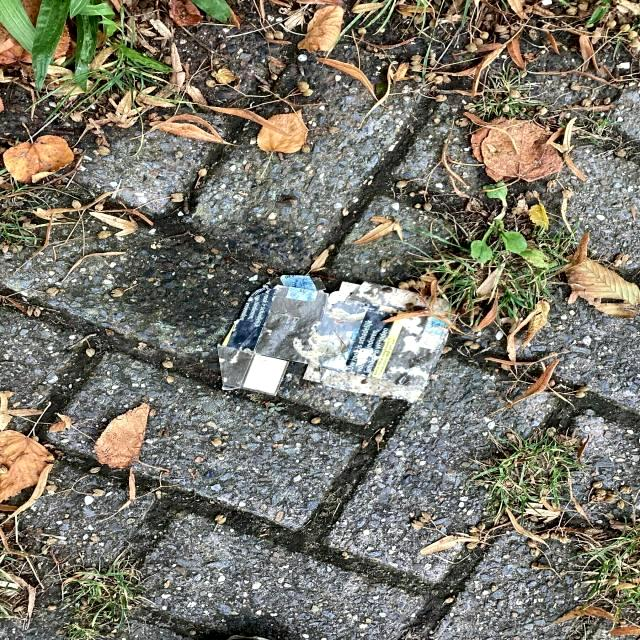Paper: (213, 272, 453, 404)
